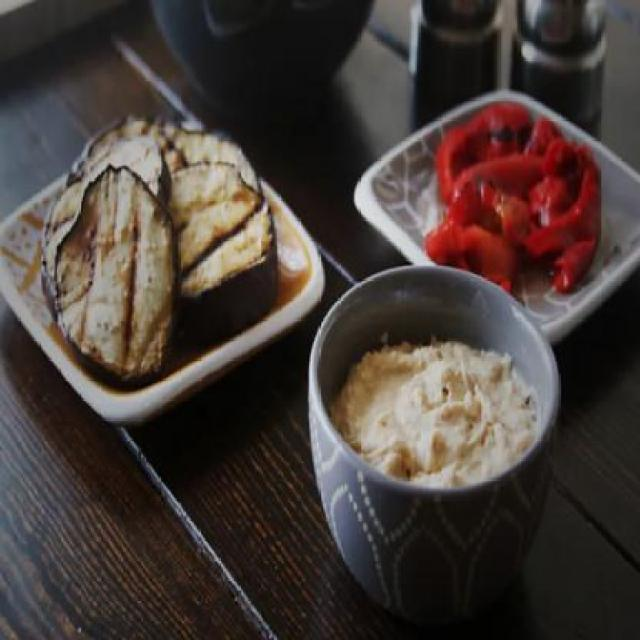eggplant: (35, 100, 287, 403)
hummus: (341, 292, 534, 553)
